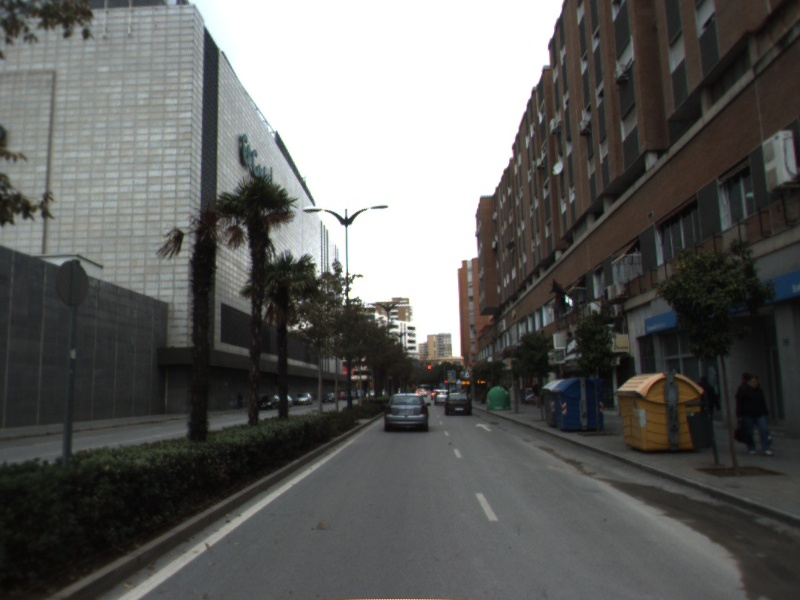STRAIGHT: (473, 421, 494, 433)
